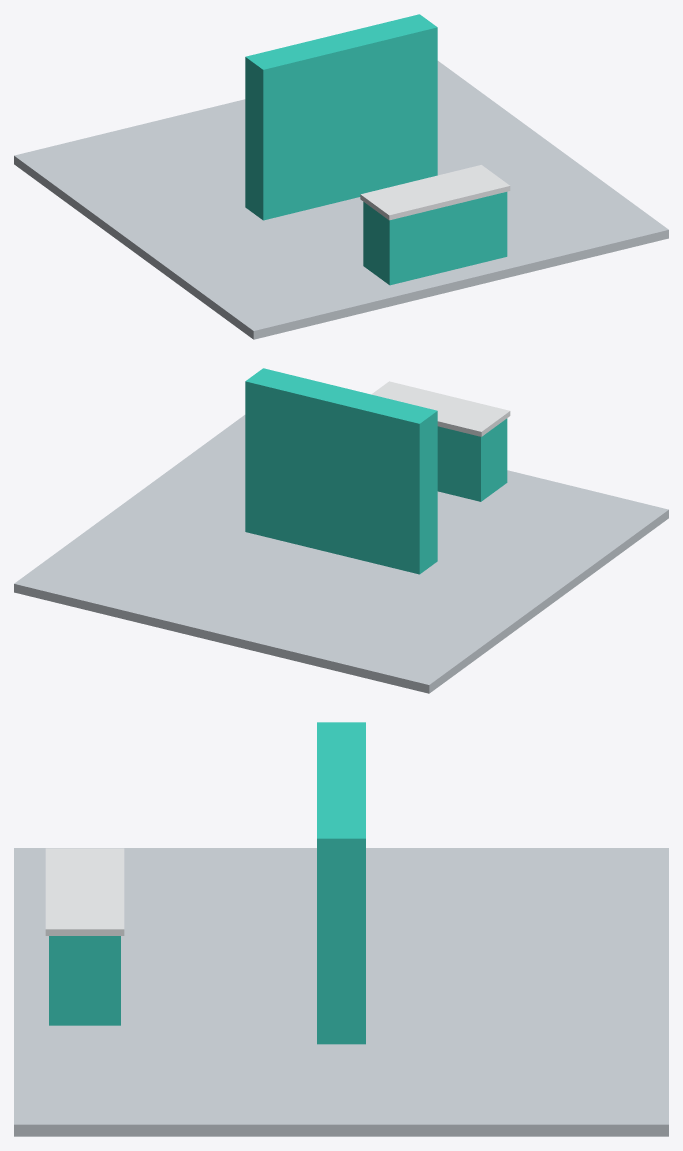
3 renders of one model, top to bottom at view 1: azimuth 30°, elevation 25°; view 2: azimuth 150°, elevation 25°; view 3: azimuth 270°, elevation 25°, orthographic. The views are drawn at different scales.
Visible parts, largest first — view 1: Exhibition Booth Concept; view 2: Exhibition Booth Concept; view 3: Exhibition Booth Concept.
Part boxes in pixels (x1,y1,x2,y2): Exhibition Booth Concept: (14, 14, 668, 339); Exhibition Booth Concept: (14, 368, 668, 693); Exhibition Booth Concept: (14, 722, 668, 1136).
Bounding box in the file's own units: 6 × 2.2 × 6.
